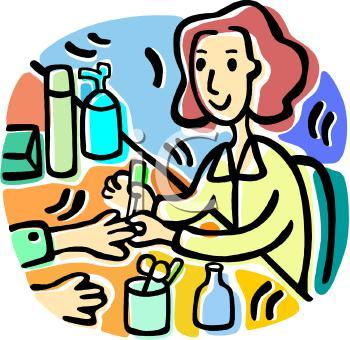bottle: (188, 262, 241, 333)
person: (134, 3, 317, 292)
